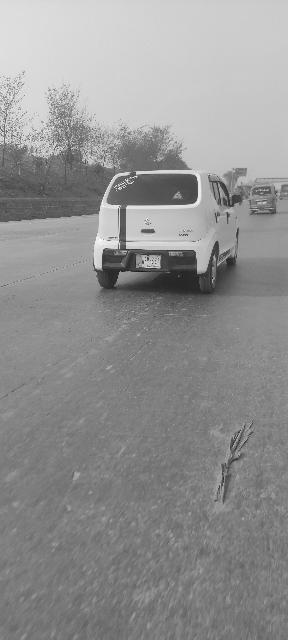Number: (142, 256, 160, 264)
